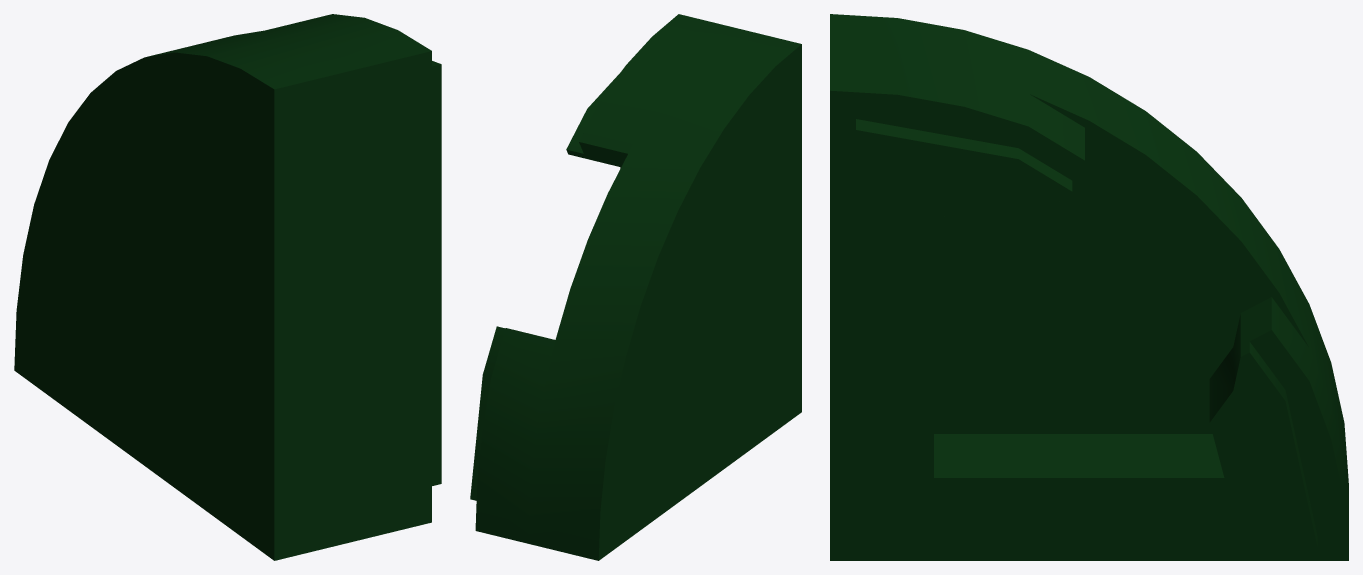
Rendered from tile_round1*1_quarter_green.obj.
3 views of the same model, side by side, from view 1: azimuth 30°, elevation 25°; view 2: azimuth 150°, elevation 25°; view 3: azimuth 270°, elevation 25° (orthographic). The views are drawn at different scales.
Bounding box in the file's own units: 8 × 20 × 20.
